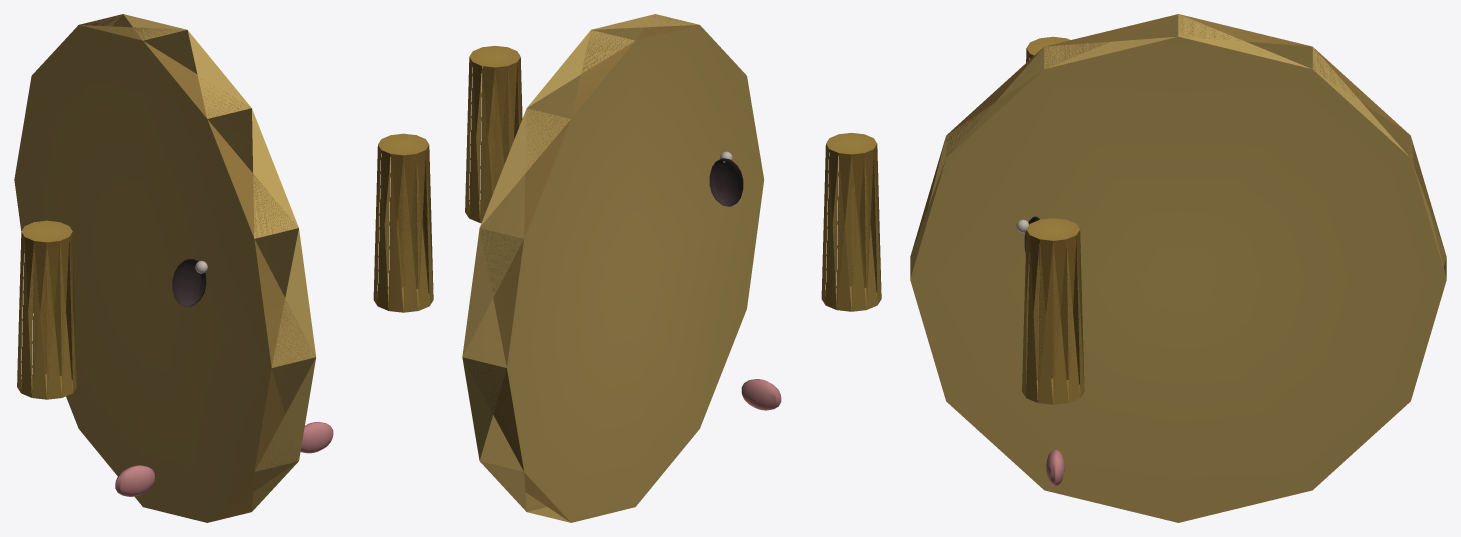
The picture shows the model from 3 angles, left to right: view 1: azimuth 30°, elevation 25°; view 2: azimuth 150°, elevation 25°; view 3: azimuth 270°, elevation 25°; orthographic projection. The views are drawn at different scales.
Visible parts, largest first — view 1: pet_p30a32a15; view 2: pet_p30a32a15; view 3: pet_p30a32a15.
Boxes of the visible parts, x1,y1,x2,y2 form: pet_p30a32a15: (14,14,433,522); pet_p30a32a15: (462,14,881,522); pet_p30a32a15: (910,14,1446,522).
Size of the model in its own units: 0.55 by 0.6 by 0.6.
